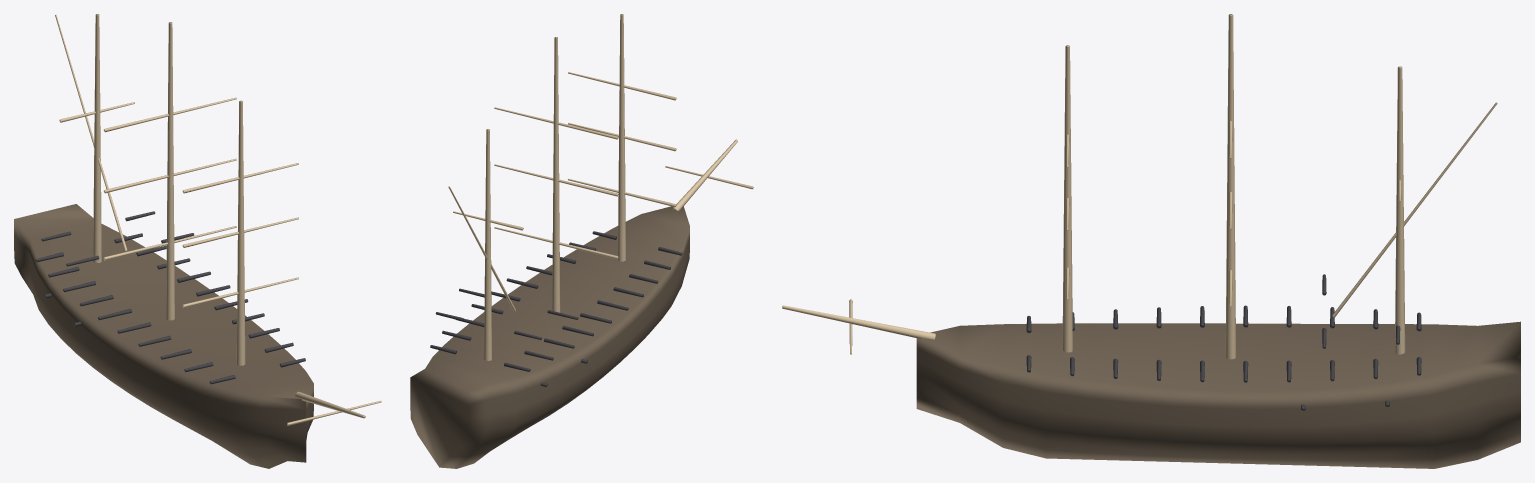
The model's file is roebuck.glb.
3 views of the same model, side by side, from view 1: azimuth 30°, elevation 25°; view 2: azimuth 150°, elevation 25°; view 3: azimuth 270°, elevation 25° (orthographic). The views are drawn at different scales.
Parts seen in each view (by area): view 1: Coque, GrandMat, Misaine, Artimon, Antenne, Beaupre; view 2: Coque, GrandMat, Misaine, Artimon, Beaupre, Antenne; view 3: Coque, GrandMat, Misaine, Artimon, Beaupre, Antenne.
Boxes of the visible parts, box(x1,y1,x2,y2) form: Coque: box(14, 204, 313, 468); GrandMat: box(103, 22, 236, 320); Misaine: box(182, 100, 298, 365); Artimon: box(59, 14, 134, 262); Antenne: box(55, 14, 127, 250); Beaupre: box(295, 391, 365, 418); Coque: box(410, 206, 689, 468); GrandMat: box(494, 37, 618, 314); Misaine: box(568, 14, 676, 261); Artimon: box(453, 129, 523, 360); Beaupre: box(672, 139, 737, 210); Antenne: box(448, 186, 515, 311); Coque: box(916, 321, 1520, 468); GrandMat: box(1225, 14, 1236, 359); Misaine: box(1062, 45, 1072, 352); Artimon: box(1395, 66, 1405, 354); Beaupre: box(782, 305, 935, 339); Antenne: box(1332, 102, 1497, 317).
Bounding box in the file's own units: 8.55 × 24.26 × 35.78.
